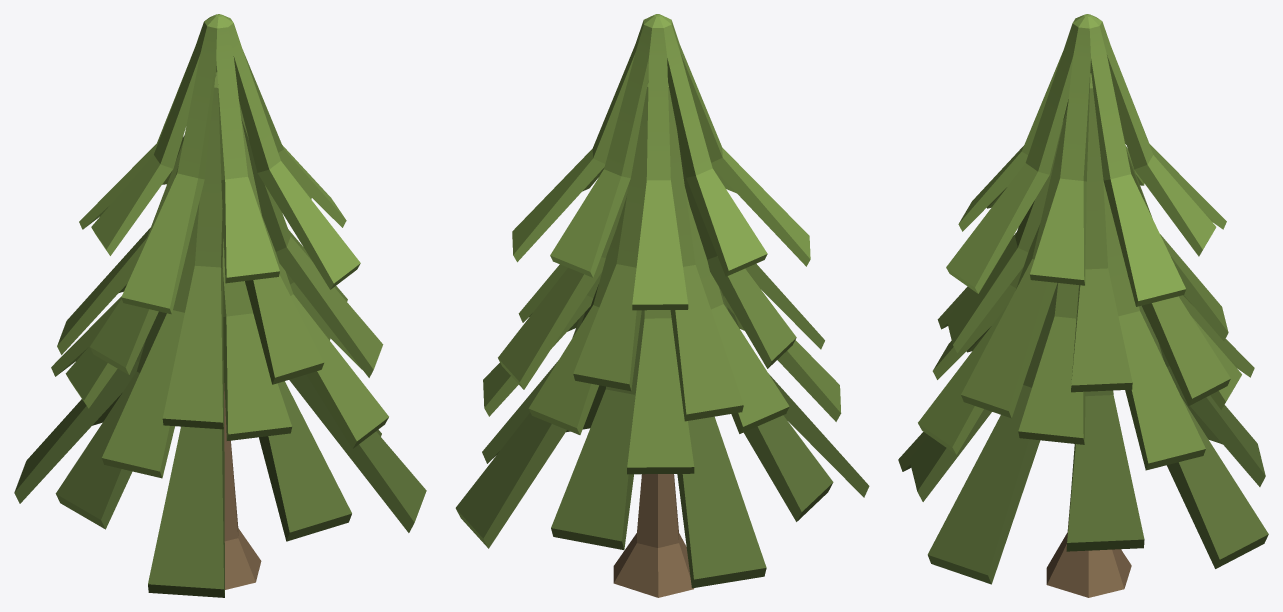
The model's file is fir_tree_26.fbx.
3 renders of one model, left to right at view 1: azimuth 30°, elevation 25°; view 2: azimuth 150°, elevation 25°; view 3: azimuth 270°, elevation 25°, orthographic.
Visible parts, largest first — view 1: fir_tree_26; view 2: fir_tree_26; view 3: fir_tree_26.
Part boxes in pixels (x1,y1,x2,y2): fir_tree_26: (14, 14, 426, 597); fir_tree_26: (455, 14, 869, 597); fir_tree_26: (898, 14, 1268, 597).
Size of the model in its own units: 295 by 499 by 298.
